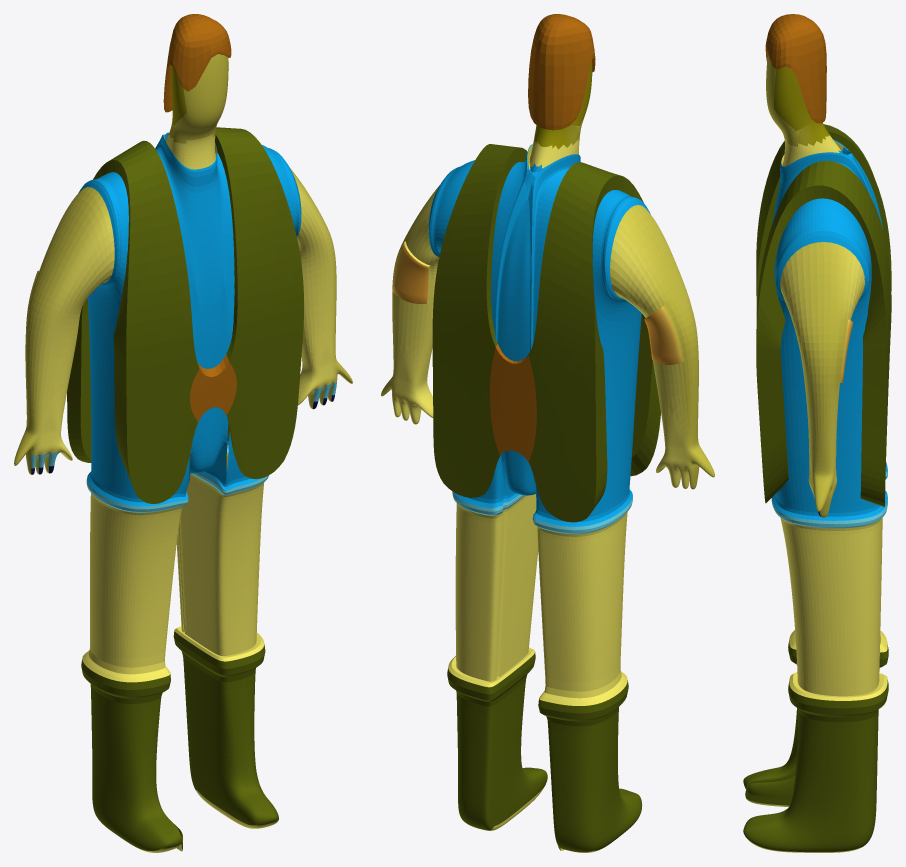
Rendered from tp11semi.fbx.
3 renders of one model, left to right at view 1: azimuth 30°, elevation 25°; view 2: azimuth 150°, elevation 25°; view 3: azimuth 270°, elevation 25°, orthographic.
Visible parts, largest first — view 1: personaje.005; view 2: personaje.005; view 3: personaje.005.
Boxes of the visible parts, x1,y1,x2,y2 form: personaje.005: (14,14,352,852); personaje.005: (381,14,714,852); personaje.005: (743,14,891,852).
Size of the model in its own units: 584 by 1347 by 224.
Materials: 1 (1 with a texture image).
